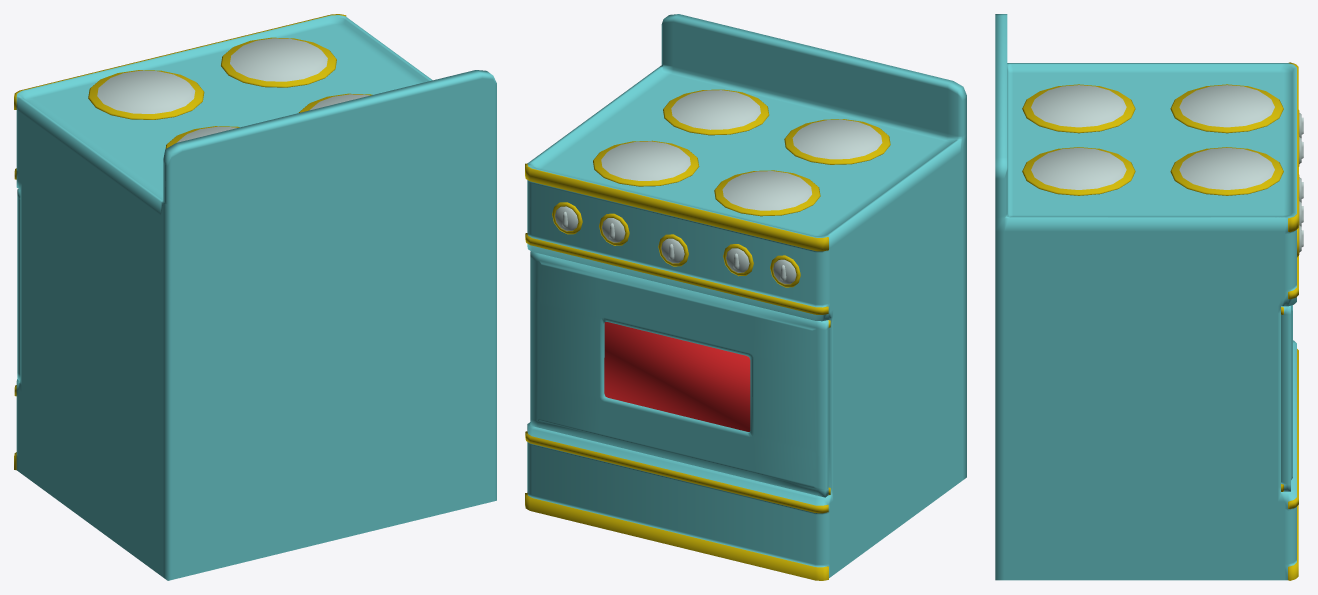
The model's file is stove.fbx.
3 views of the same model, side by side, from view 1: azimuth 30°, elevation 25°; view 2: azimuth 150°, elevation 25°; view 3: azimuth 270°, elevation 25° (orthographic). The views are drawn at different scales.
Parts seen in each view (by area): view 1: HSHP_MOD_Oven_01, HSHP_MOD_Oven_door; view 2: HSHP_MOD_Oven_01, HSHP_MOD_Oven_door; view 3: HSHP_MOD_Oven_01, HSHP_MOD_Oven_door.
Boxes of the visible parts, box(x1,y1,x2,y2) form: HSHP_MOD_Oven_01: box(14, 14, 496, 580); HSHP_MOD_Oven_door: box(17, 189, 20, 381); HSHP_MOD_Oven_01: box(525, 14, 966, 580); HSHP_MOD_Oven_door: box(530, 251, 830, 497); HSHP_MOD_Oven_01: box(995, 14, 1303, 580); HSHP_MOD_Oven_door: box(1281, 305, 1292, 491).
Bounding box in the file's own units: 28.72 × 35.53 × 23.87.
